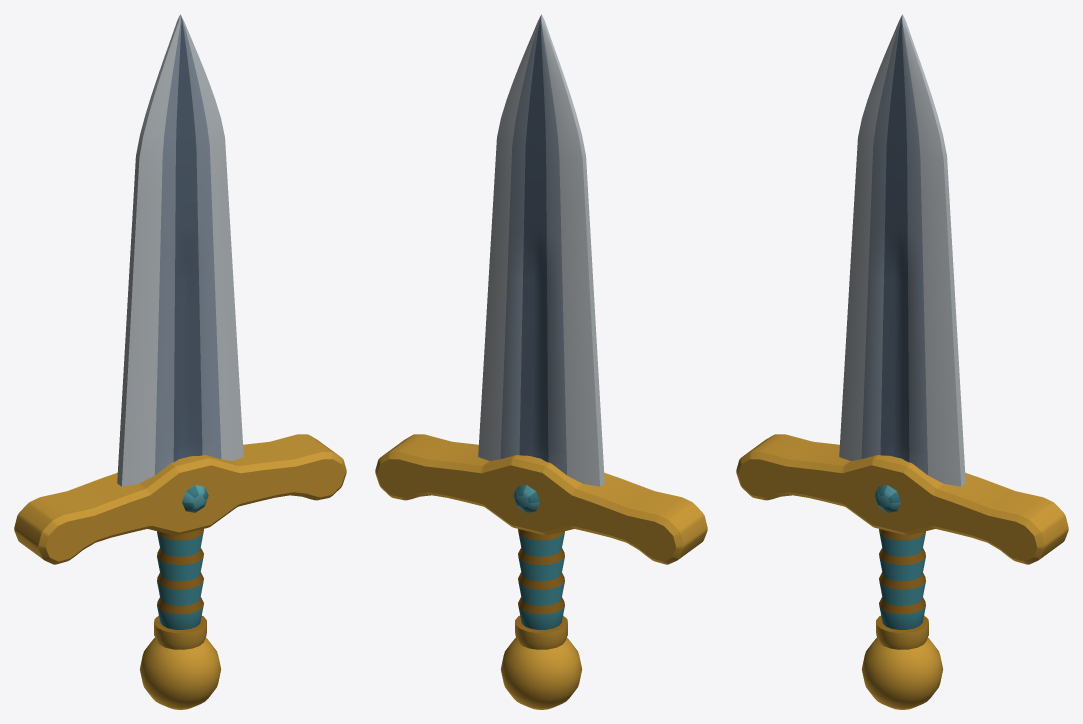
The model's file is Broadsword_05.glb.
3 renders of one model, left to right at view 1: azimuth 30°, elevation 25°; view 2: azimuth 150°, elevation 25°; view 3: azimuth 330°, elevation 25°, orthographic.
Parts seen in each view (by area): view 1: Broadsword_05; view 2: Broadsword_05; view 3: Broadsword_05.
Part boxes in pixels (left/top/right/bottom): Broadsword_05: left=14, top=14, right=346, bottom=709; Broadsword_05: left=375, top=14, right=707, bottom=709; Broadsword_05: left=736, top=14, right=1068, bottom=709.
Size of the model in its own units: 2.91 by 6.24 by 0.666.
